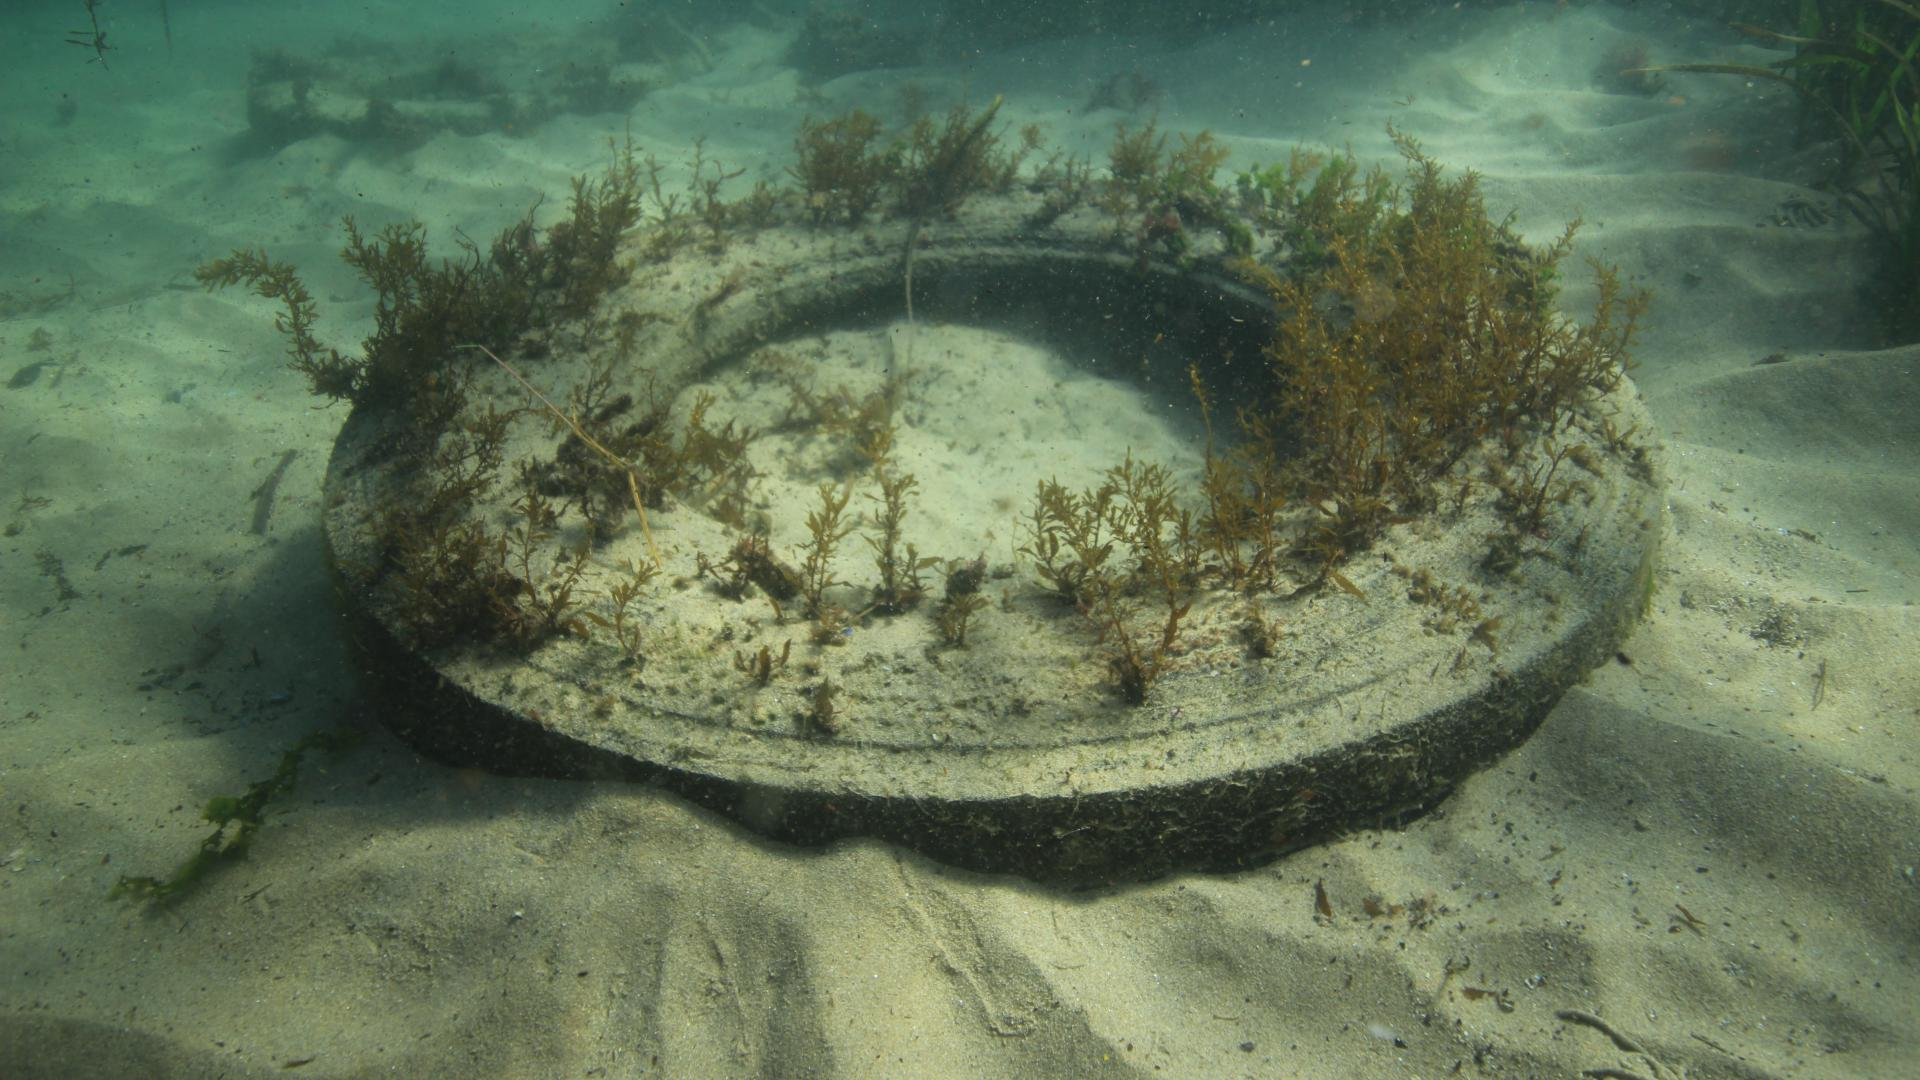tire: (320, 177, 1663, 890)
